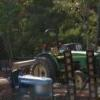Tractor: (17, 35, 100, 84)
